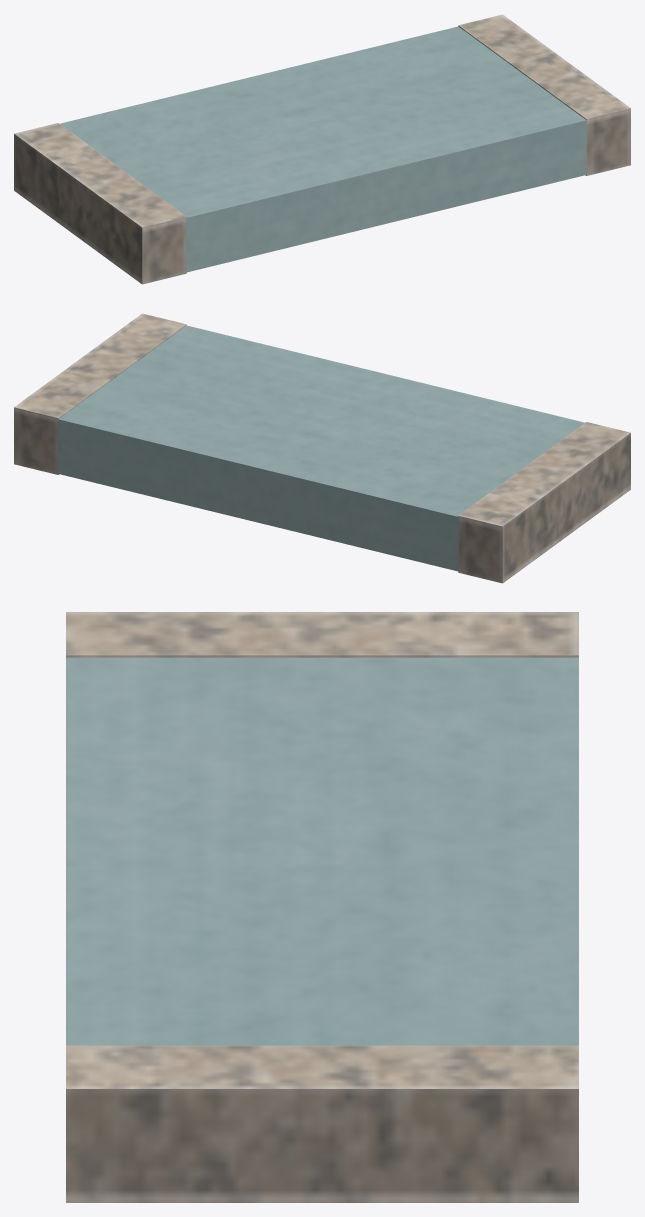
The model's file is set_base_a_03.fbx.
3 renders of one model, top to bottom at view 1: azimuth 30°, elevation 25°; view 2: azimuth 150°, elevation 25°; view 3: azimuth 270°, elevation 25°, orthographic. The views are drawn at different scales.
Parts seen in each view (by area): view 1: set_base_a_03; view 2: set_base_a_03; view 3: set_base_a_03.
Boxes of the visible parts, bbox=[...] form: set_base_a_03: bbox=[14, 14, 630, 284]; set_base_a_03: bbox=[14, 313, 630, 583]; set_base_a_03: bbox=[66, 612, 578, 1202].
Size of the model in its own units: 110 by 12.25 by 50.
